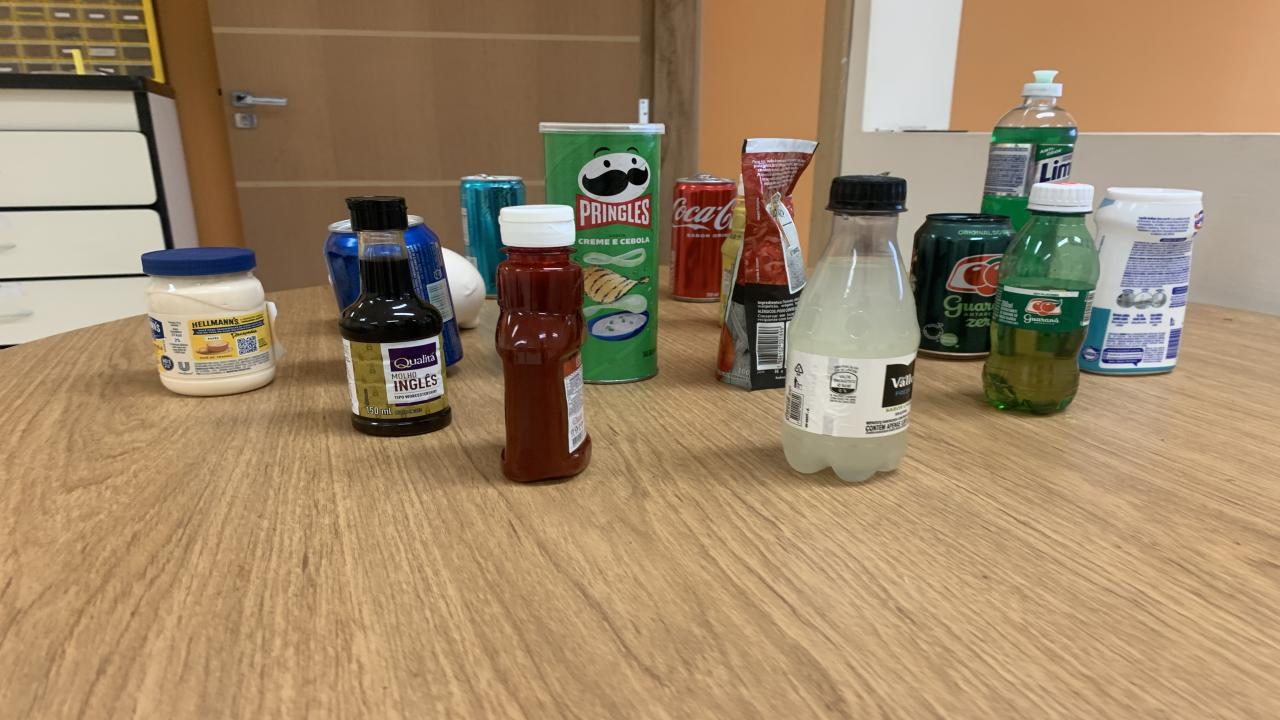Cleaner-Cleanup_Items: (1080, 188, 1202, 375)
Coke-Drinks: (670, 174, 735, 302)
Detergent-Cleanup_Items: (980, 69, 1078, 229)
English_Sauce-Pantry_Items: (340, 197, 450, 435)
Guarana-Drinks: (982, 182, 1100, 414)
Guarana_Can-Drinks: (910, 214, 1015, 358)
Ketchup-Pantry_Items: (495, 204, 592, 482)
Mayonnaise-Pantry_Items: (142, 248, 280, 396)
Mustard-Pantry_Items: (718, 176, 745, 324)
Pig_Safe-Miscellaneous: (442, 248, 485, 328)
Pringles-Snacks: (540, 122, 665, 384)
Soda-Drinks: (782, 176, 920, 482)
Tea-Drinks: (460, 174, 525, 296)
Tomato_Sauce-Pantry_Items: (718, 139, 818, 390)
Tonic-Drinks: (405, 216, 462, 366), (325, 219, 360, 311)
